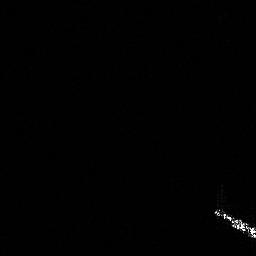ship: (211, 204, 256, 242)
